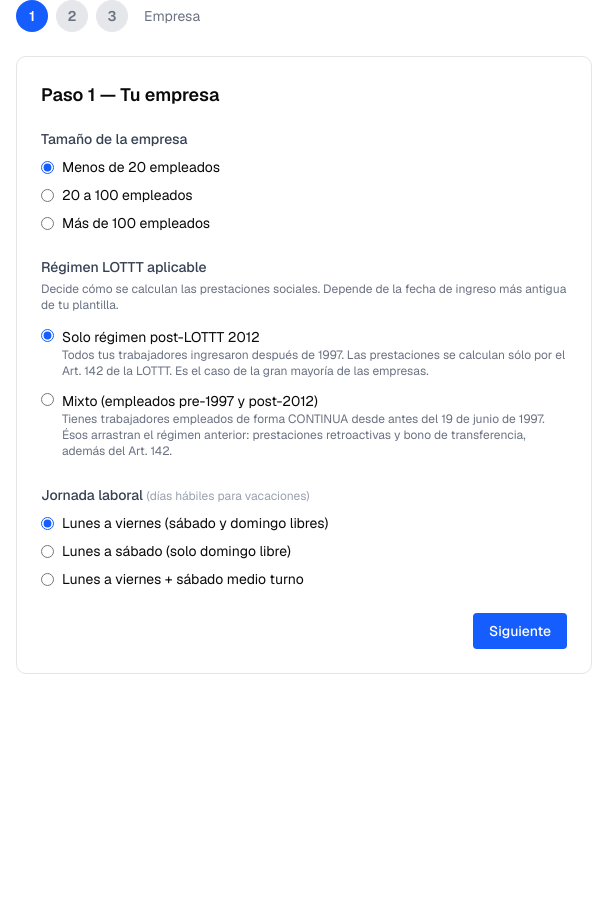
Scenario: PayrollWizard · paso 3 — los 17 selectores son AccountCombobox (SPEC-012 B2) › hay DIECISIETE <input role=combobox> y ningún <select> nativo en el paso 3
Click the button "Siguiente". click: click(520, 631)
box: left=473, top=613, right=567, bottom=649
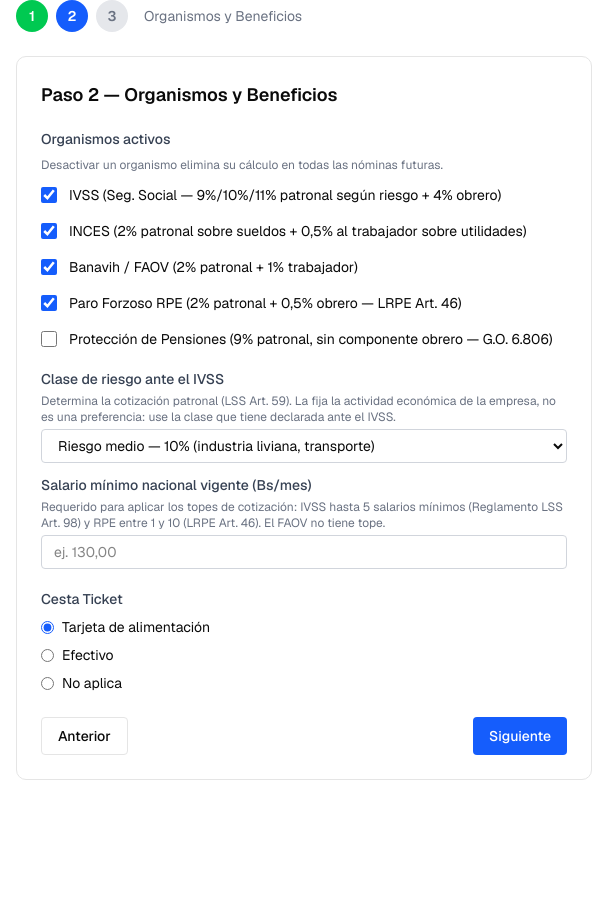
Click the button "Siguiente". click: click(520, 736)
box: left=473, top=717, right=567, bottom=755
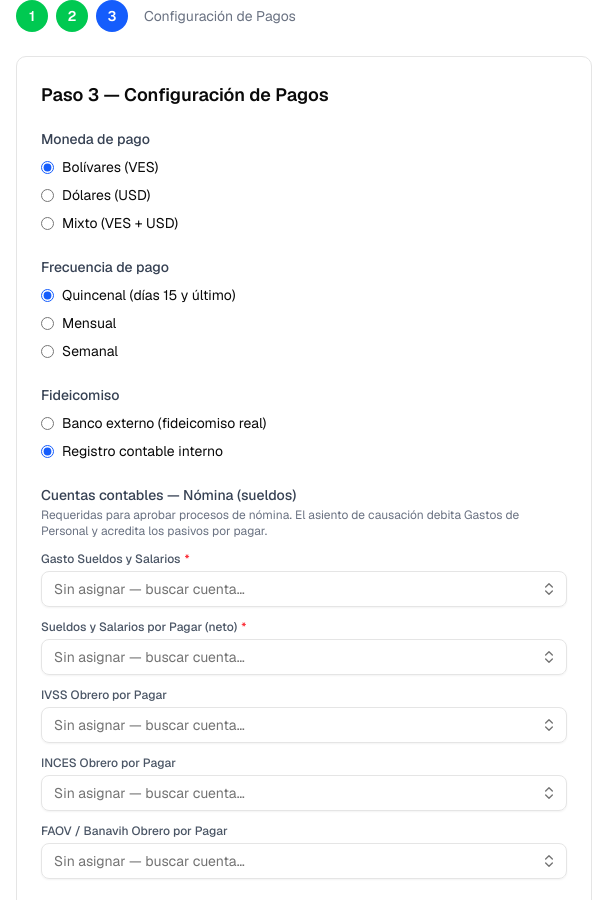
Now the heading "Paso 3 — Configuración de Pagos" is shown, box left=41, top=83, right=329, bottom=106
Now no dropdowns are shown
